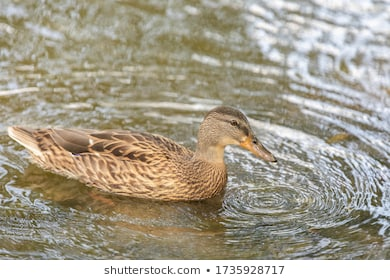duck: (4, 99, 297, 213)
